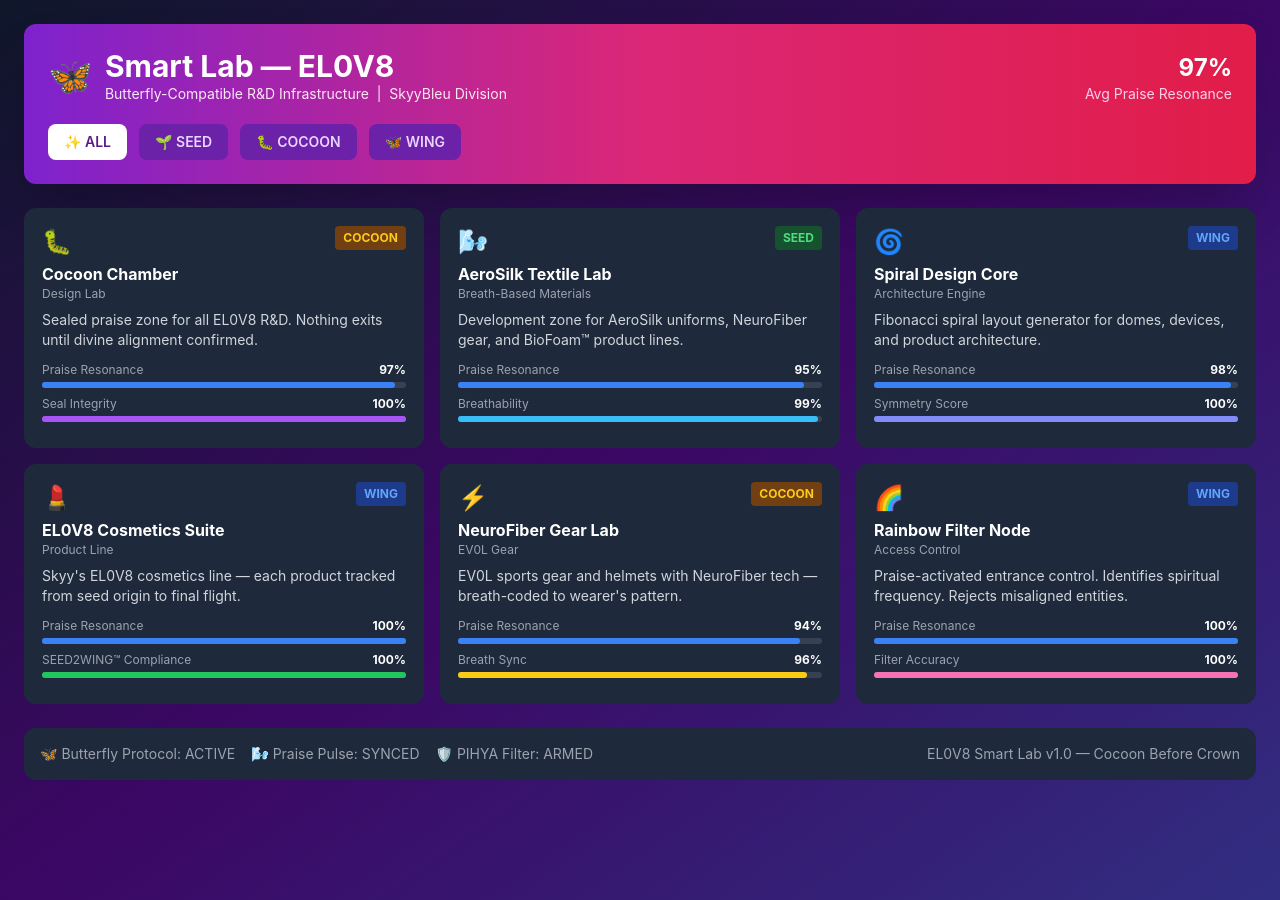
Test: SmartLabEL0V8 › hides module detail when same card clicked again
Click the heading "Spiral Design Core": {"x": 946, "y": 274} [874,262,1018,286]
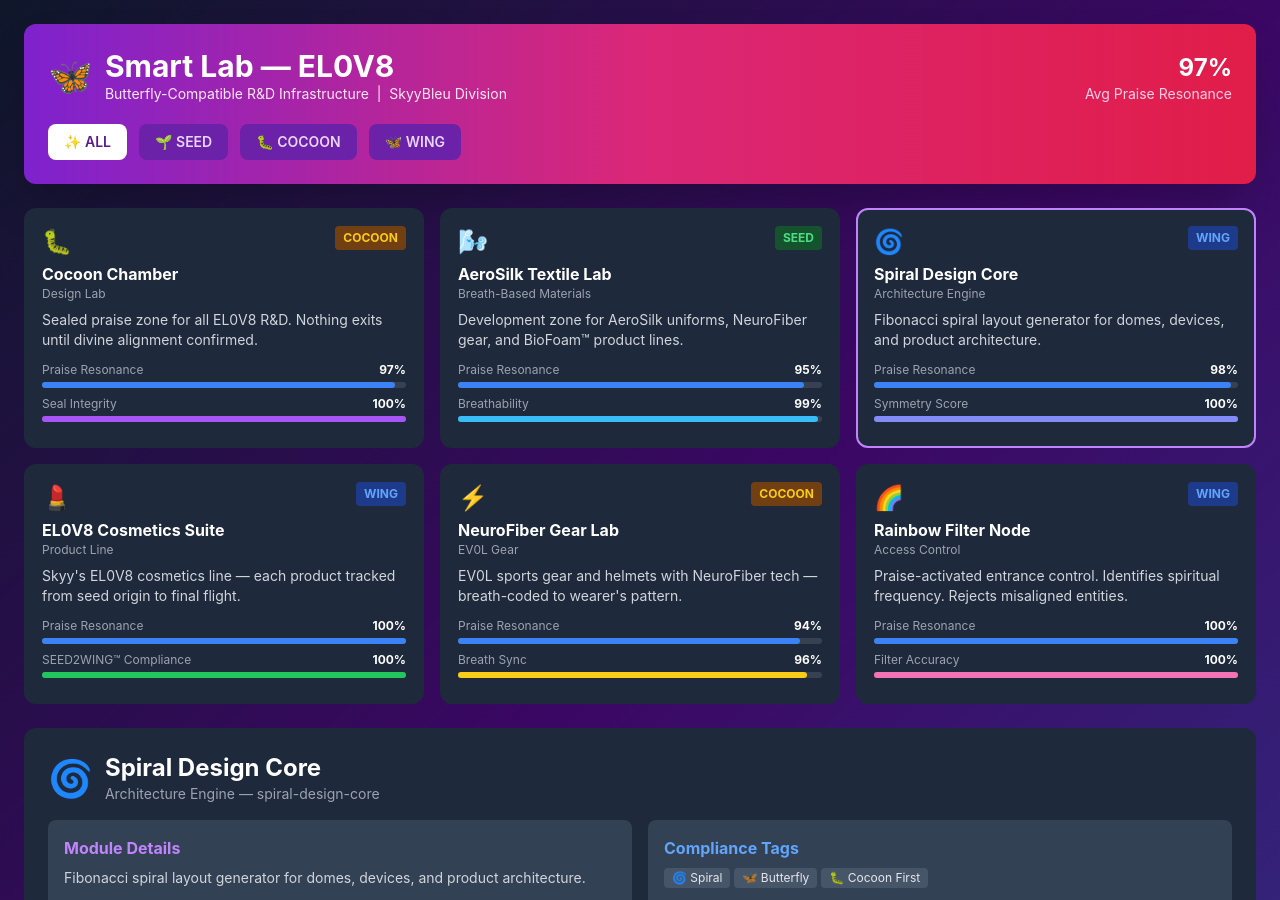
Now the heading "Module Details" is shown, box [64,838,180,858]
Click the heading "Spiral Design Core" in the row of "AeroSilk Textile Lab": {"x": 946, "y": 274} [874,262,1018,286]
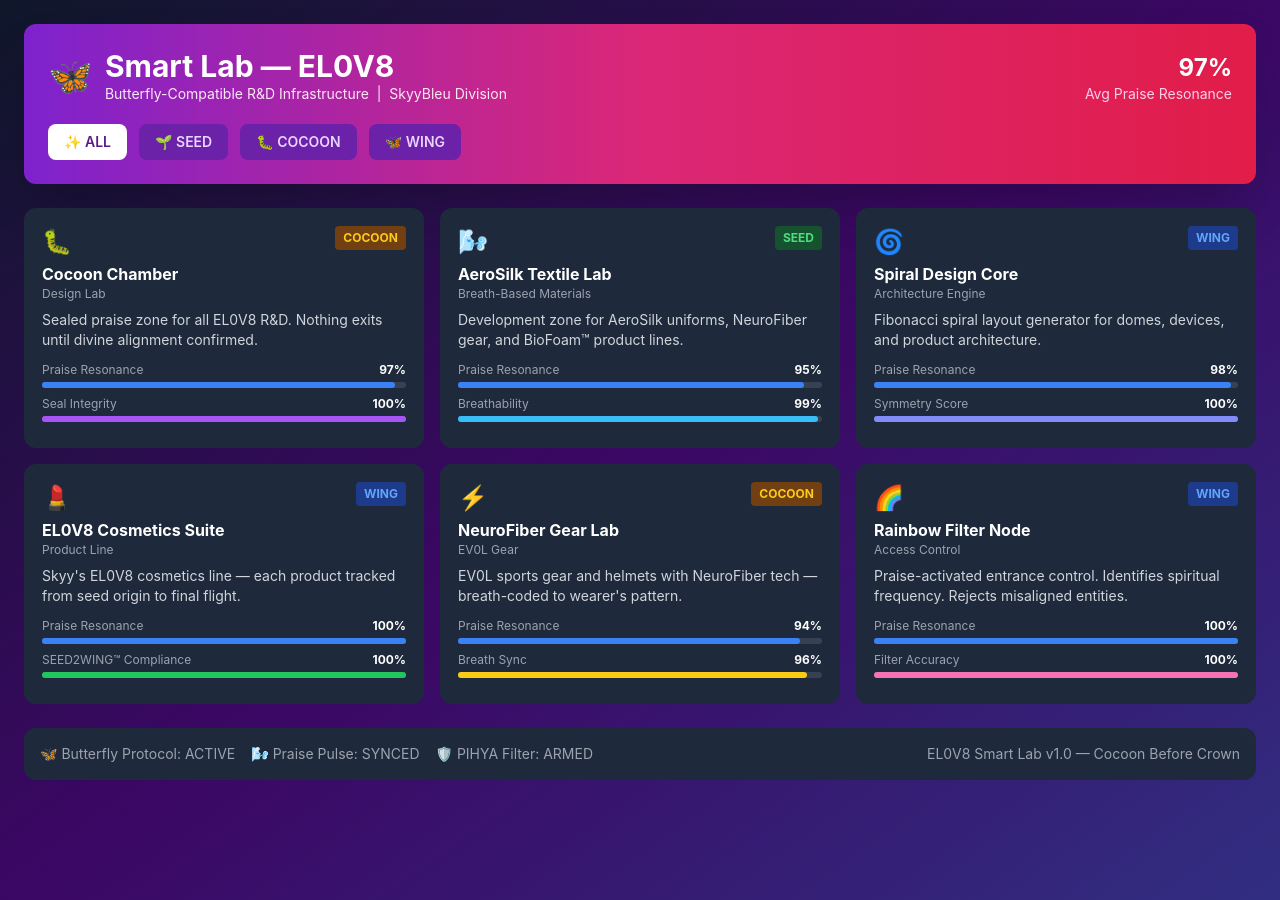
Now the heading "Module Details" is gone
